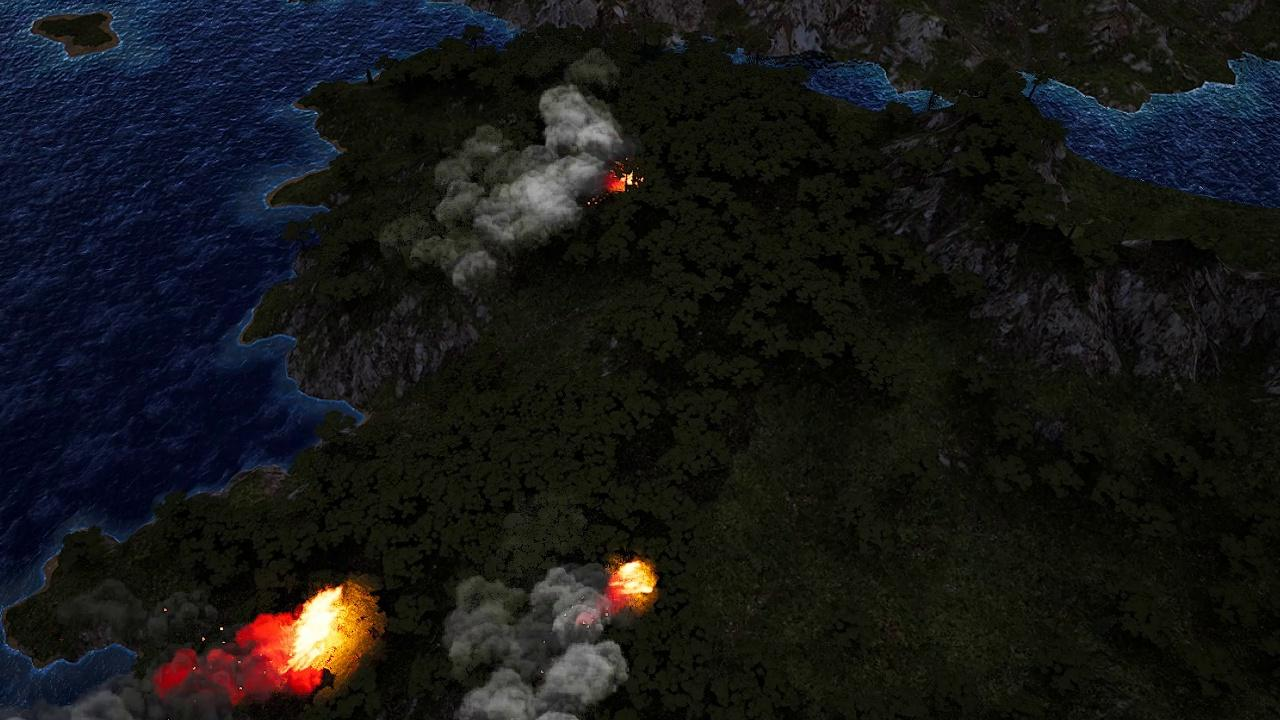fire: (288, 585, 358, 672), (609, 559, 659, 609), (607, 173, 638, 198)
smoke: (435, 54, 640, 290), (0, 605, 325, 720), (443, 566, 639, 720)
